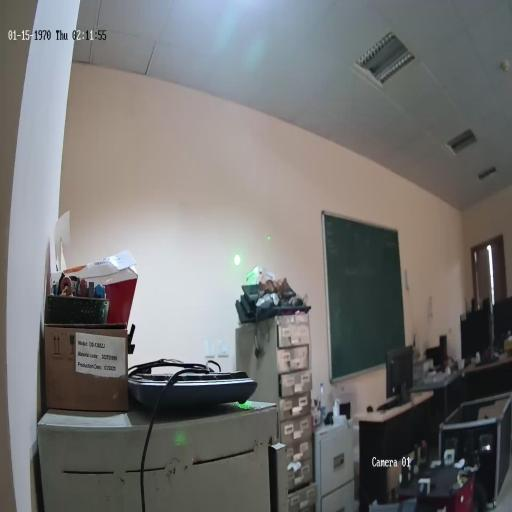laser: (233, 254, 241, 266)
